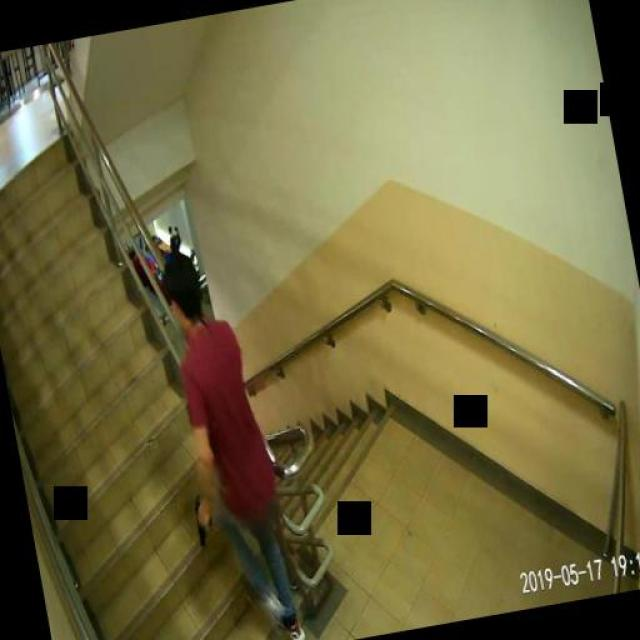gun: (188, 492, 214, 548)
